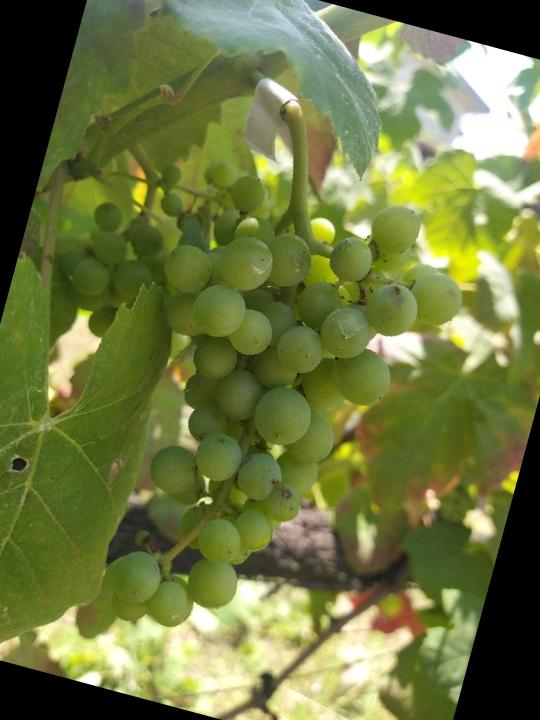grape: (71, 146, 492, 689)
